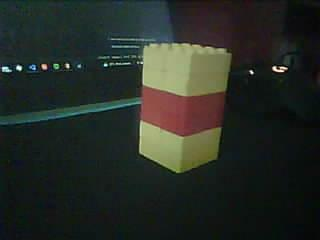lego: (139, 41, 231, 173)
